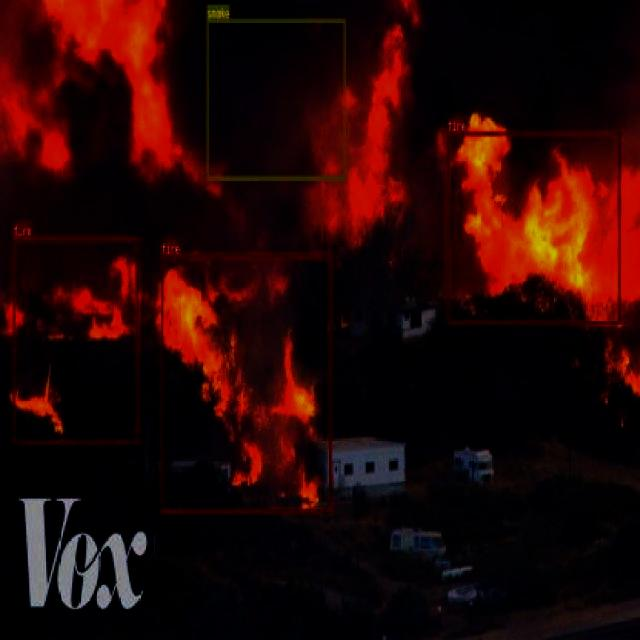fire: (162, 253, 330, 513), (446, 131, 620, 324), (12, 237, 138, 443)
smoke: (206, 18, 345, 179)
